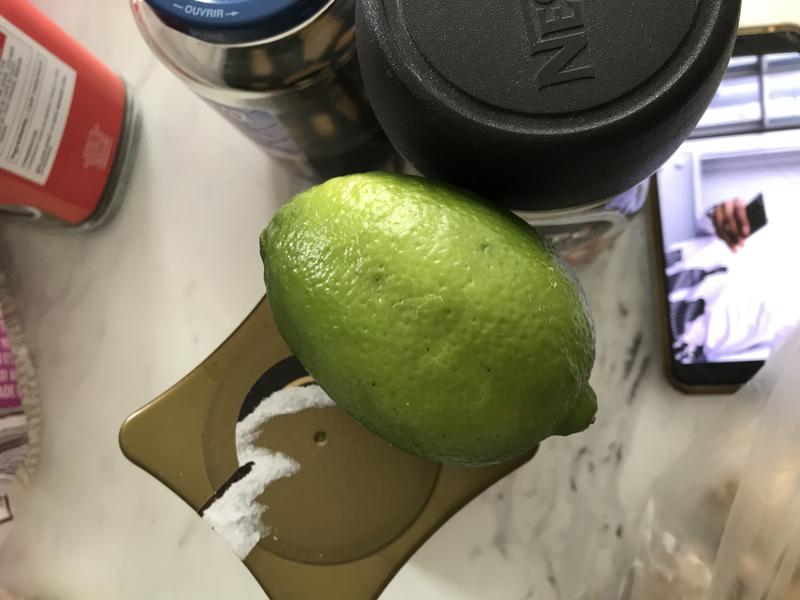lime: (244, 163, 622, 467)
